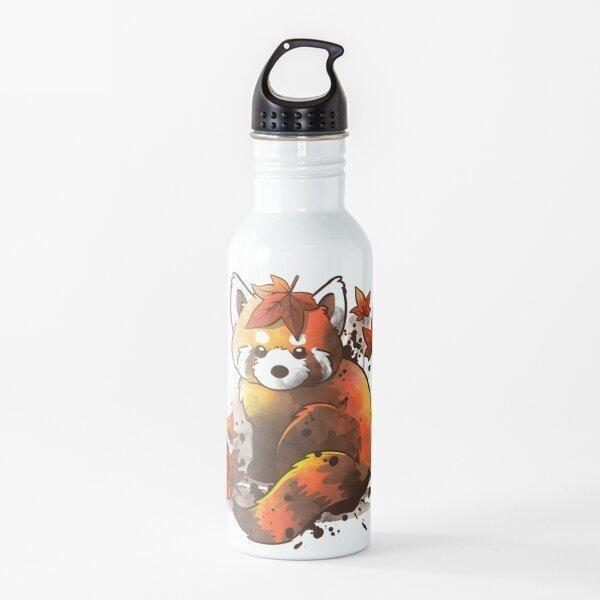gym bottle: (221, 30, 374, 563)
